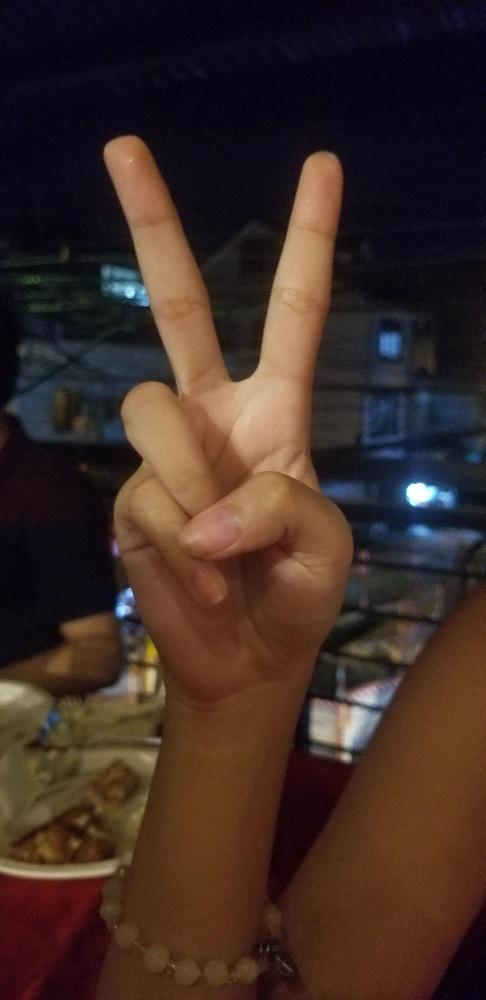v: (103, 126, 355, 685)
